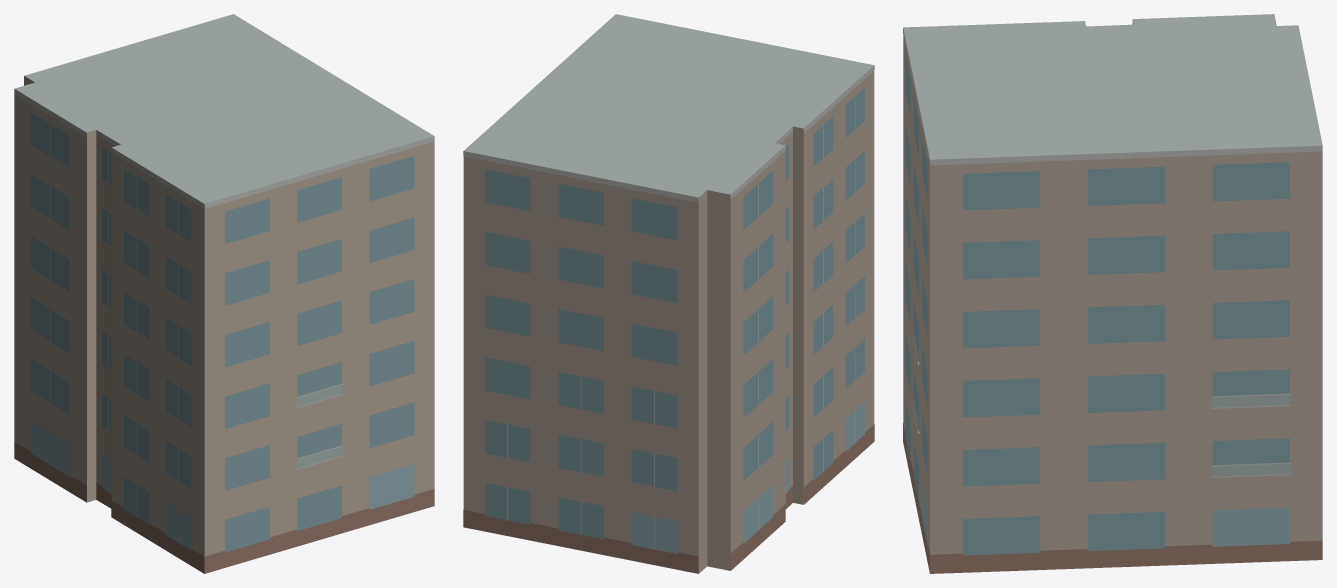
Rendered from survey-upis-32756497.glb.
The picture shows the model from 3 angles, left to right: view 1: azimuth 30°, elevation 25°; view 2: azimuth 150°, elevation 25°; view 3: azimuth 270°, elevation 25°; orthographic projection. The views are drawn at different scales.
Parts seen in each view (by area): view 1: survey-upis-32756497.tmp; view 2: survey-upis-32756497.tmp; view 3: survey-upis-32756497.tmp.
Part boxes in pixels (left/top/right/bottom): survey-upis-32756497.tmp: left=14, top=14, right=434, bottom=573; survey-upis-32756497.tmp: left=463, top=14, right=874, bottom=573; survey-upis-32756497.tmp: left=903, top=14, right=1322, bottom=573.
Size of the model in its own units: 13.21 by 17.5 by 16.08.
